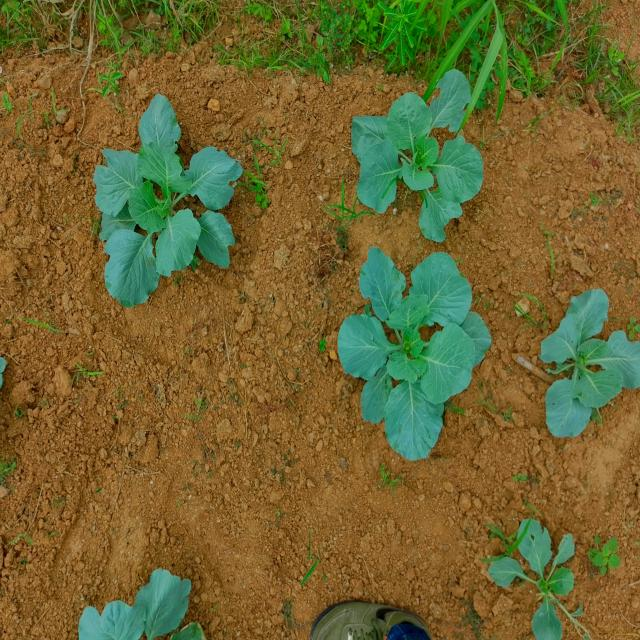Cabbage: (340, 236, 498, 465), (93, 96, 252, 305), (344, 72, 488, 243), (533, 278, 640, 447), (485, 509, 595, 638), (78, 566, 210, 640)
